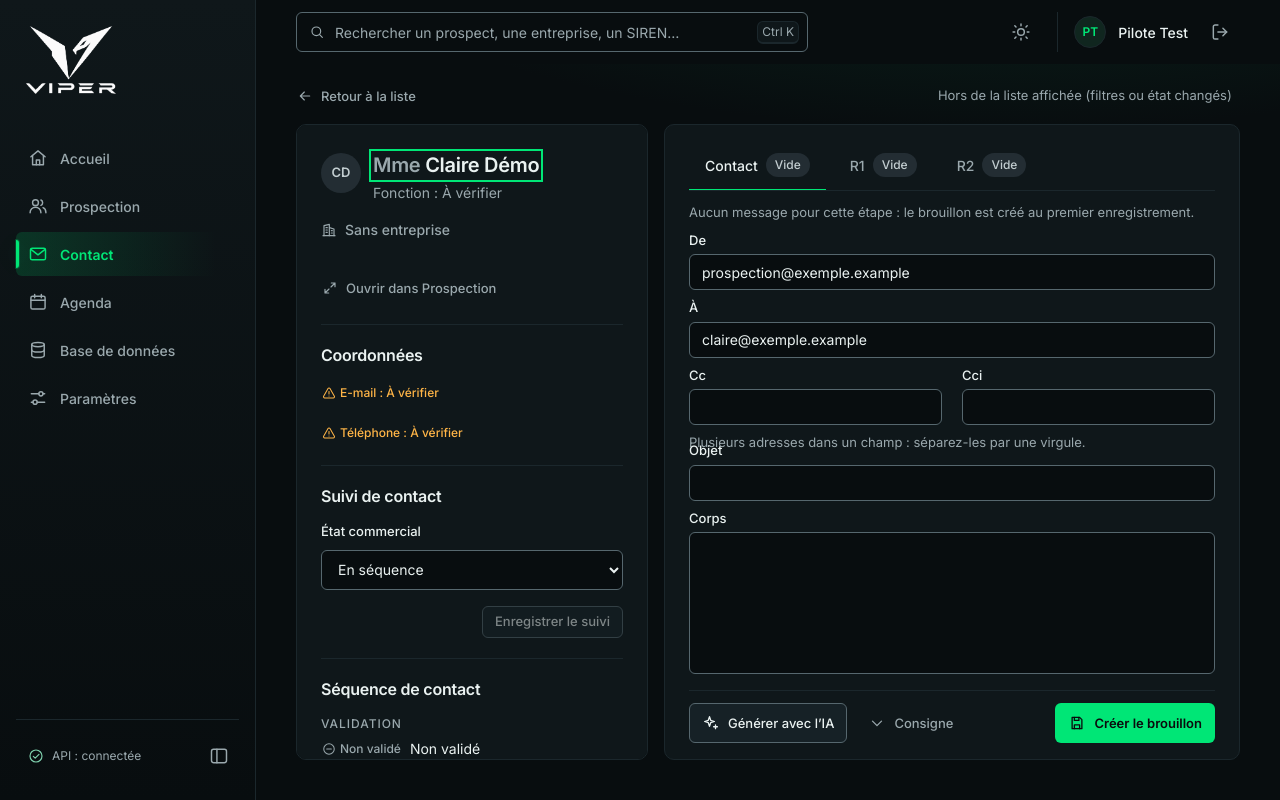
Scenario: AI drafting in the mail editor › shows the running state with a live counter and locks the editor meanwhile
Click the button "Générer avec l’IA" at (768, 723), box top-left (689, 703), bottom-right (847, 743)
Wait 3000 ms
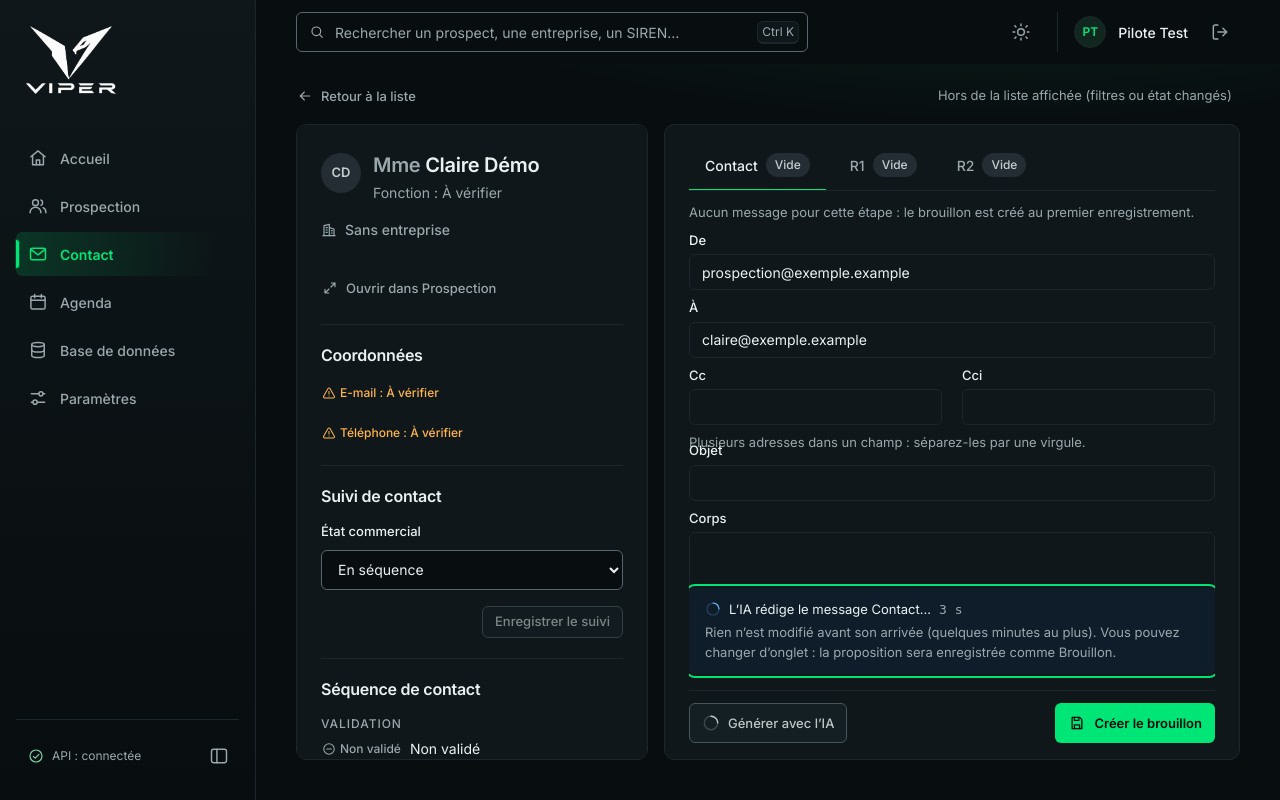
Expected: the element with class "contact-ai__progress" shows "L’IA rédige le message Contact…", top-left (689, 588), bottom-right (1215, 674)
Expected: the button "Générer avec l’IA" is disabled, top-left (689, 703), bottom-right (847, 743)
Expected: the text with class "contact-ai__elapsed" reads "3 s", top-left (939, 600), bottom-right (962, 619)
